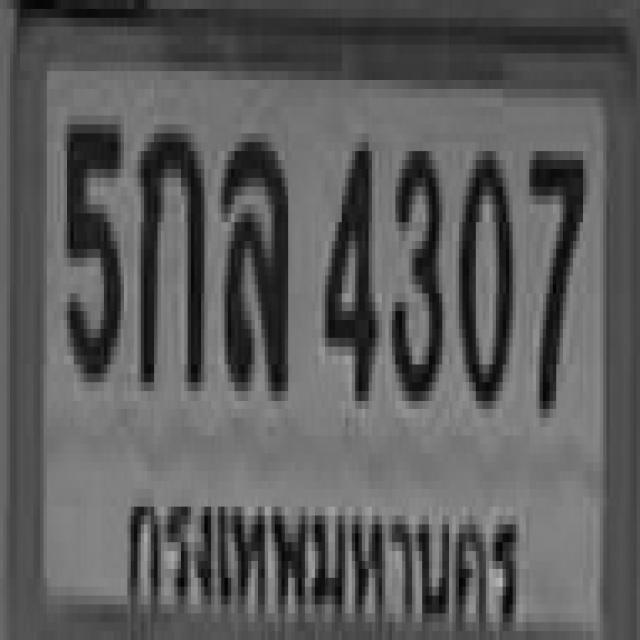0: (456, 142, 509, 400)
10GorGai: (137, 120, 201, 378)
3: (389, 142, 439, 391)
4: (322, 133, 375, 391)
45LorLing: (218, 134, 285, 382)
5: (64, 115, 117, 374)
7: (526, 142, 583, 409)
Bangkok: (114, 462, 519, 640)
